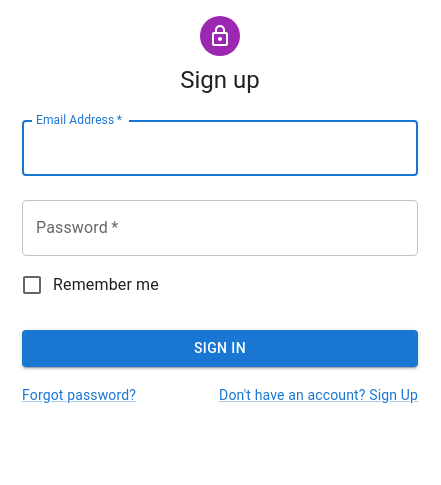
Test: SignIn Component › Test case for Email and Password fields regex validate of signIn
The width and height of the screenshot is (441, 485).
Type "akk5555" into the field labelled "Email Address".
click(220, 148); type("akk5555")  # box [22,120,418,176]
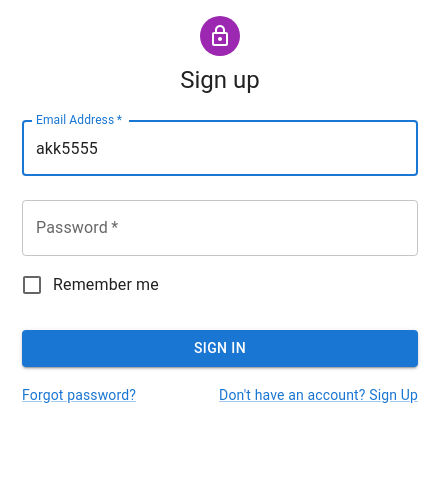
Type "akanksha" into the password field labelled "Password *".
click(220, 228); type("akanksha")  # box [22,200,418,256]
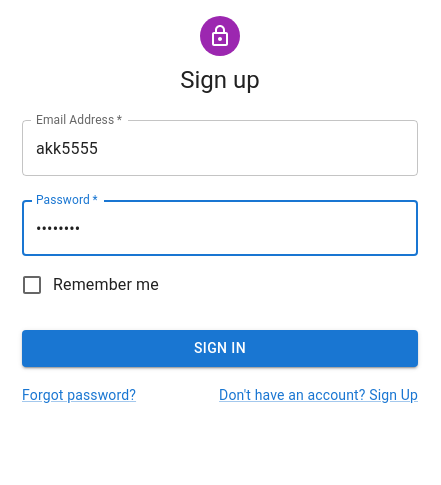
Click the button "Sign in".
click(220, 348)  # box [22,330,418,366]
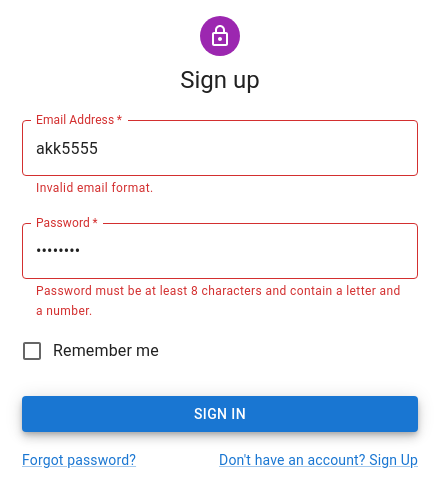
Result: the text "Invalid email format." is shown at [36,181,154,195]
Result: the text "Password must be at least 8 characters and contain a letter and a number." is shown at [36,282,404,322]
